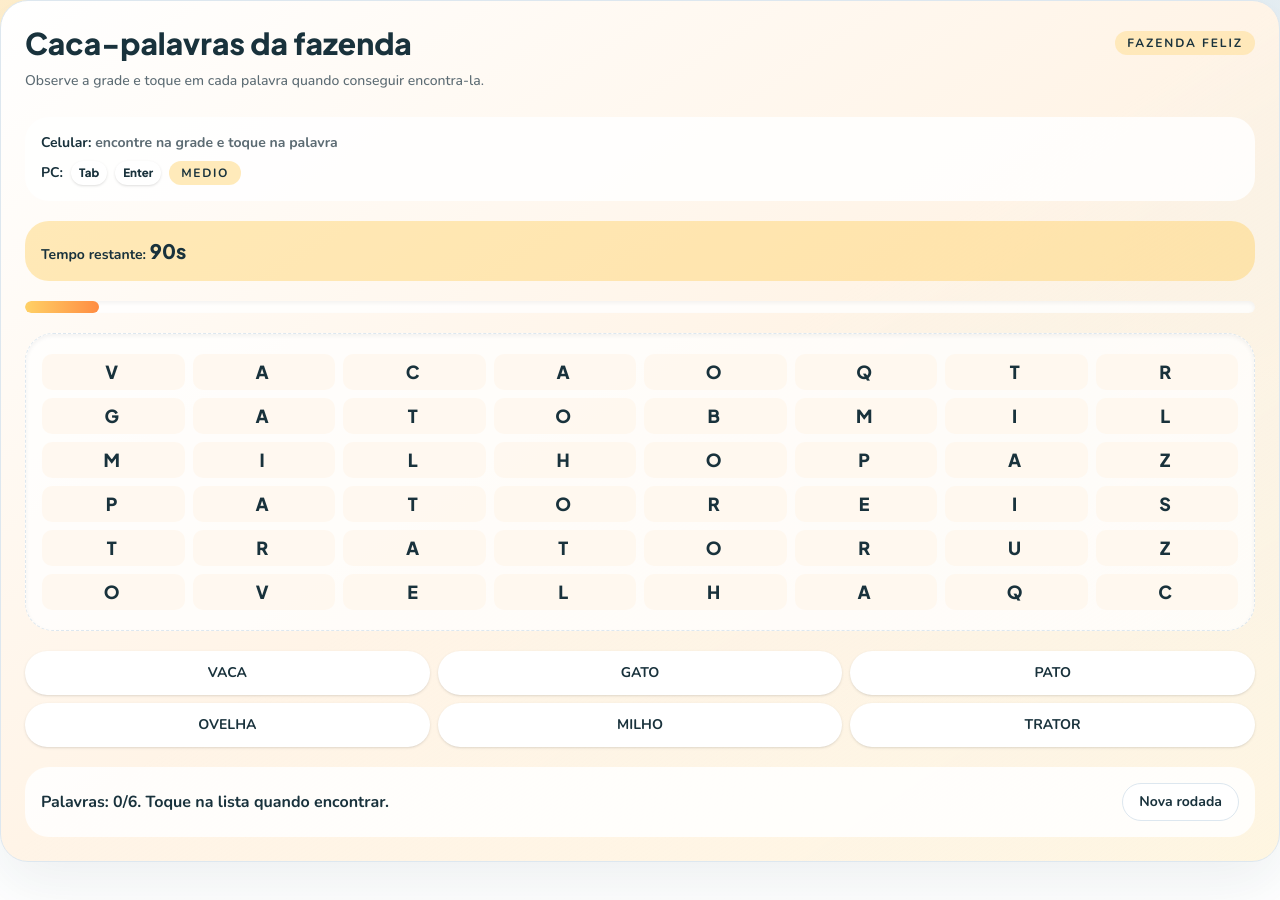
WorksheetGame › starts a different word search round with new words
This screenshot has width=1280, height=900.
Expected: the text "Fazenda feliz" is shown, x1=1115 y1=31 x2=1255 y2=55
Click the button "Nova rodada" at {"x": 1181, "y": 802}, box x1=1122 y1=783 x2=1239 y2=821
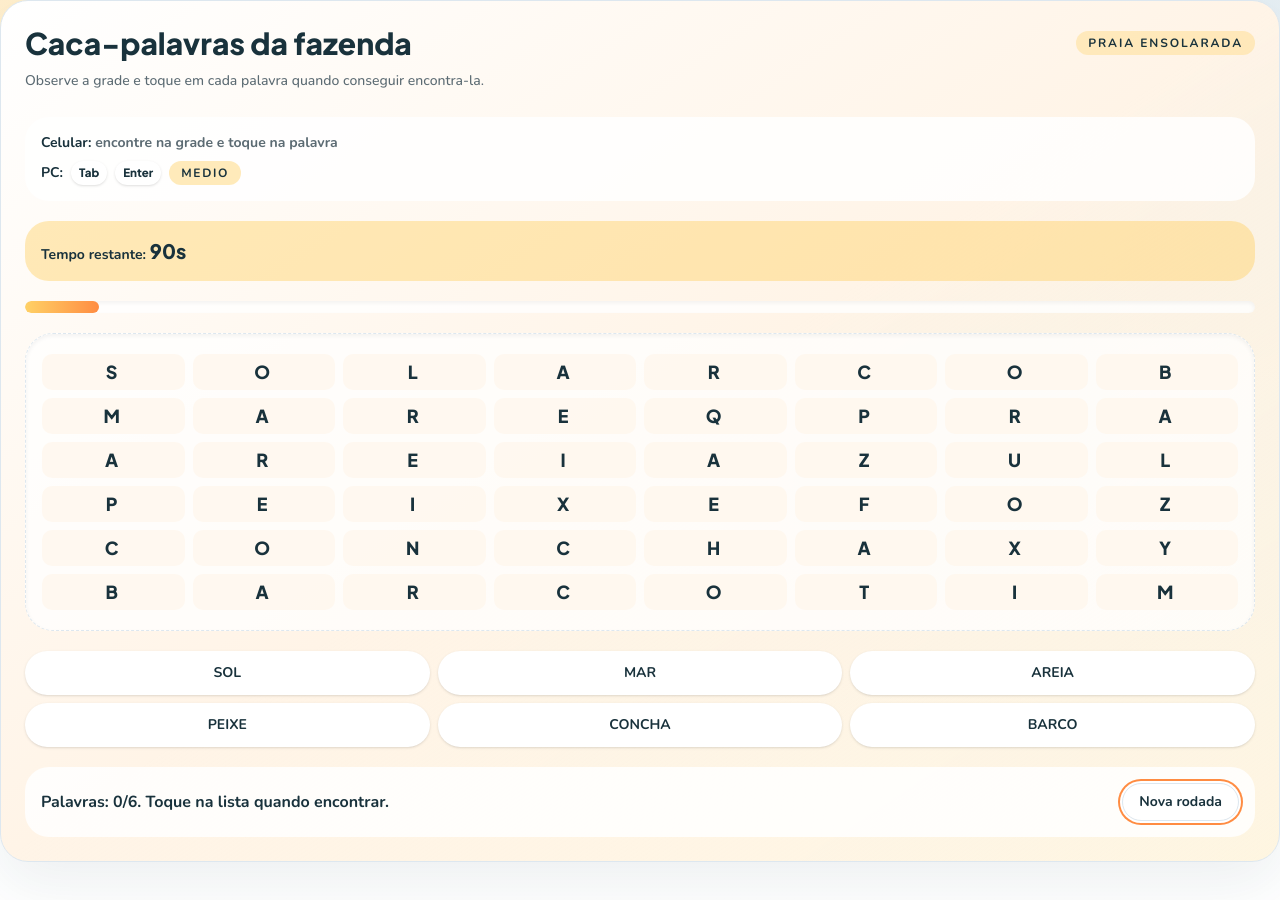
Expected: the text "Praia ensolarada" is shown, x1=1076 y1=31 x2=1255 y2=55
Expected: the button "SOL" is shown, x1=25 y1=651 x2=430 y2=695
